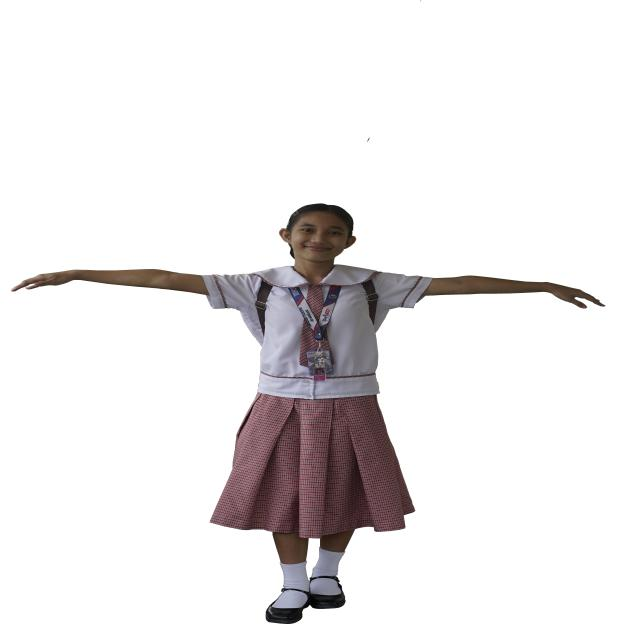id lace: (289, 286, 341, 341)
pologirl: (202, 265, 431, 399)
shoes: (266, 576, 345, 624)
skirt: (211, 393, 414, 538)
